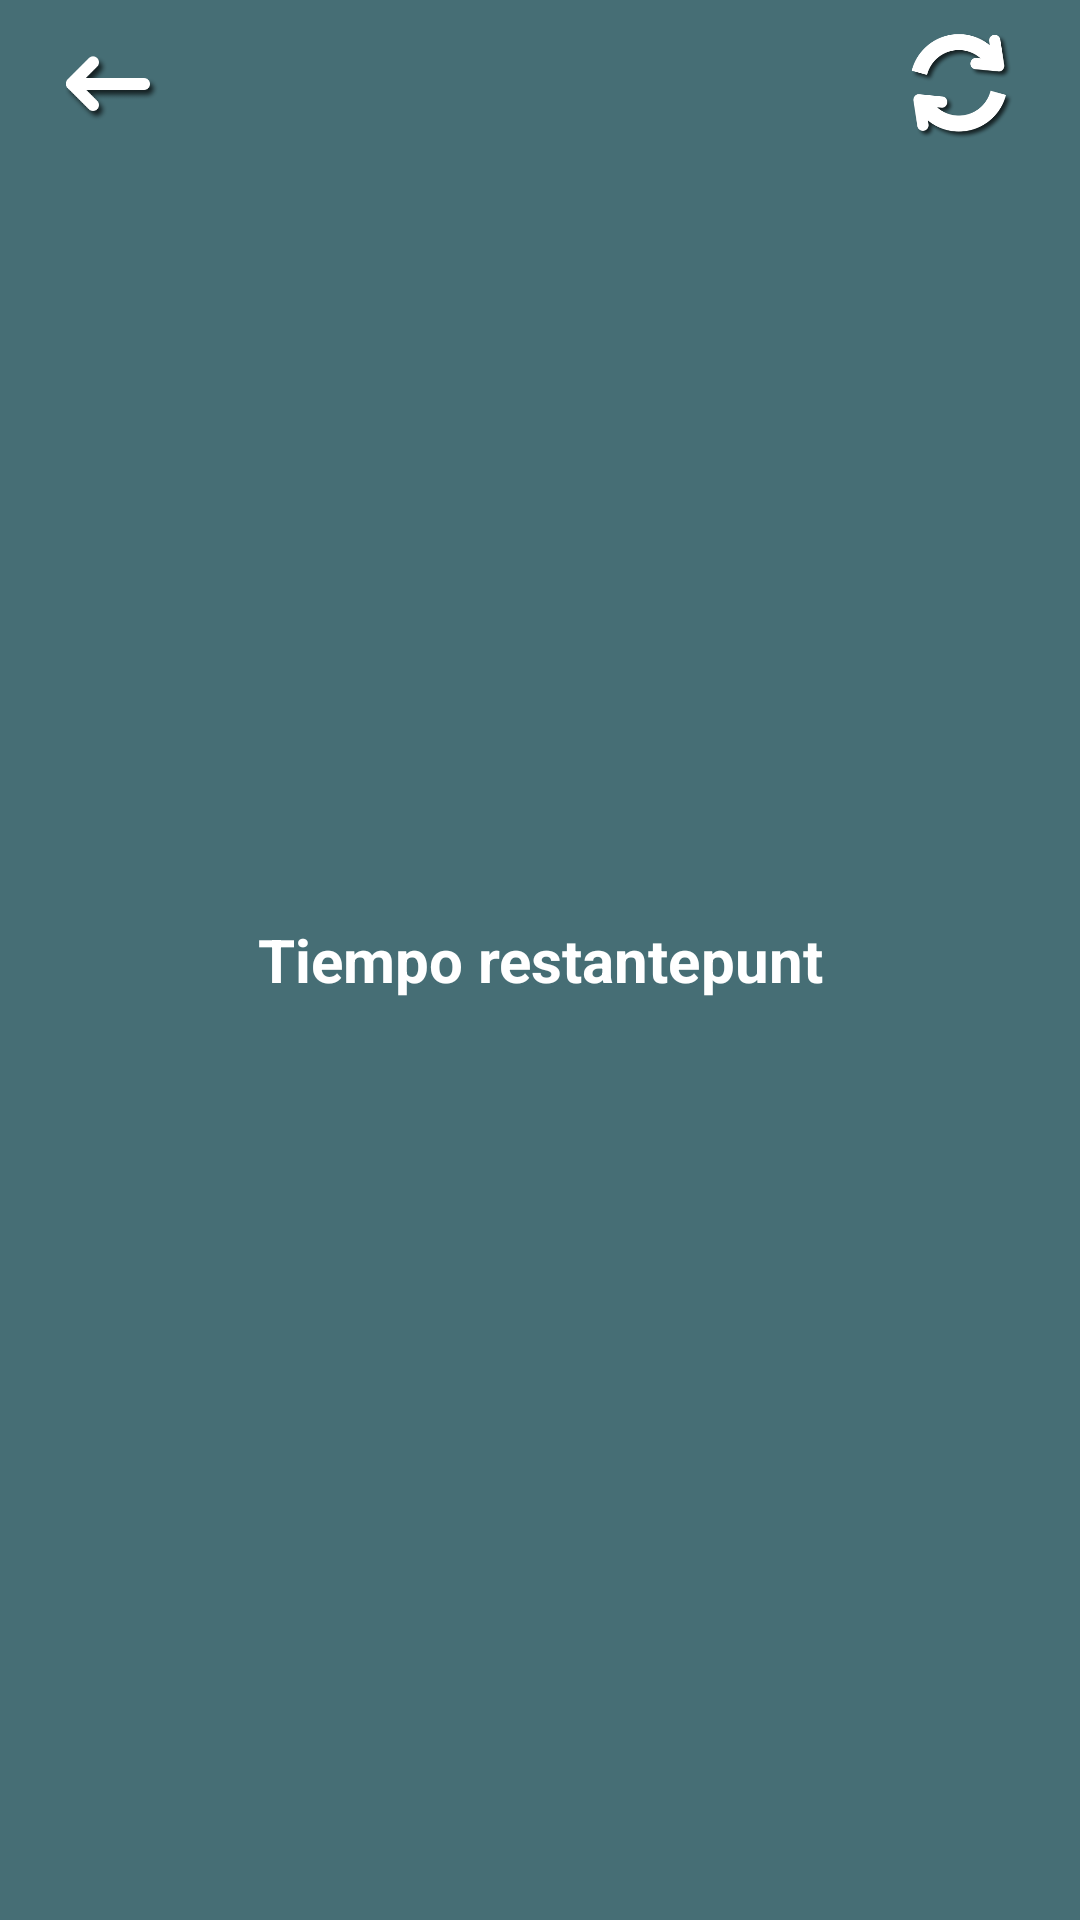

Icon click points for this 1080px×1920px phone screenshot, format [x,y]:
atras: [110,86]
restart: [960,85]
